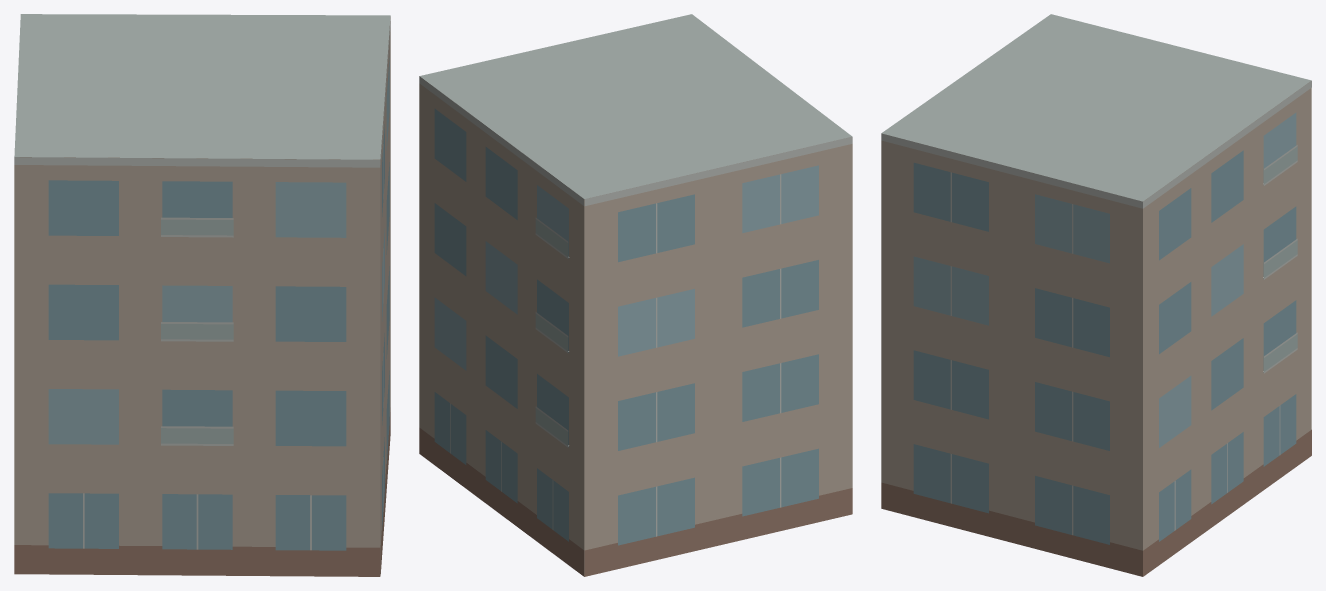
File: survey-upis-32977405.glb
3 views of the same model, side by side, from view 1: azimuth 30°, elevation 25°; view 2: azimuth 150°, elevation 25°; view 3: azimuth 270°, elevation 25° (orthographic). The views are drawn at different scales.
Parts seen in each view (by area): view 1: survey-upis-32977405.tmp; view 2: survey-upis-32977405.tmp; view 3: survey-upis-32977405.tmp.
Part boxes in pixels (box(x1,y1,x2,y2)): survey-upis-32977405.tmp: box(14, 14, 390, 576); survey-upis-32977405.tmp: box(419, 14, 852, 576); survey-upis-32977405.tmp: box(881, 14, 1311, 576).
Bounding box in the file's own units: 13.73 × 12.8 × 13.32.
